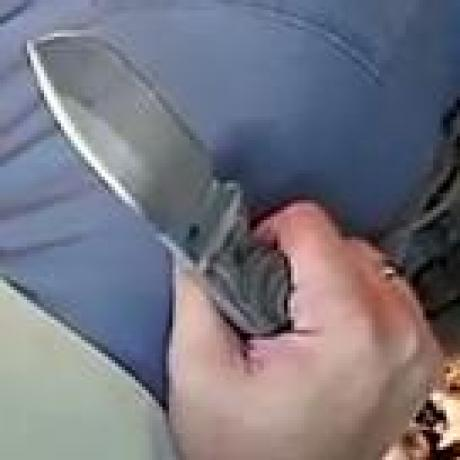1: (152, 202, 451, 460)
weapon: (24, 31, 274, 286)
